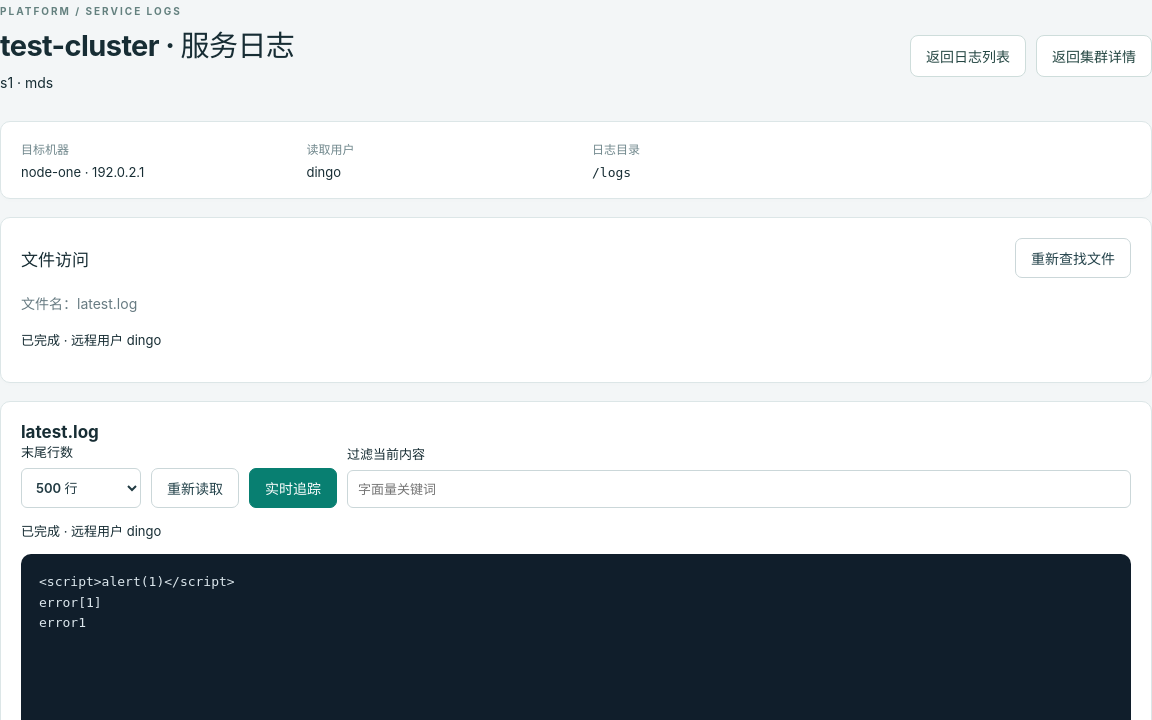
Test case: a file page lists before reading its opaque file id and renders HTML as text
Check: the text named "日志内容" shows "<script>alert(1)</script>", box [39,574,235,630]
In the field labelled "过滤当前内容": coordinates (739, 489) [347,470,1131,508], type "error[1]"
(page scrolled)
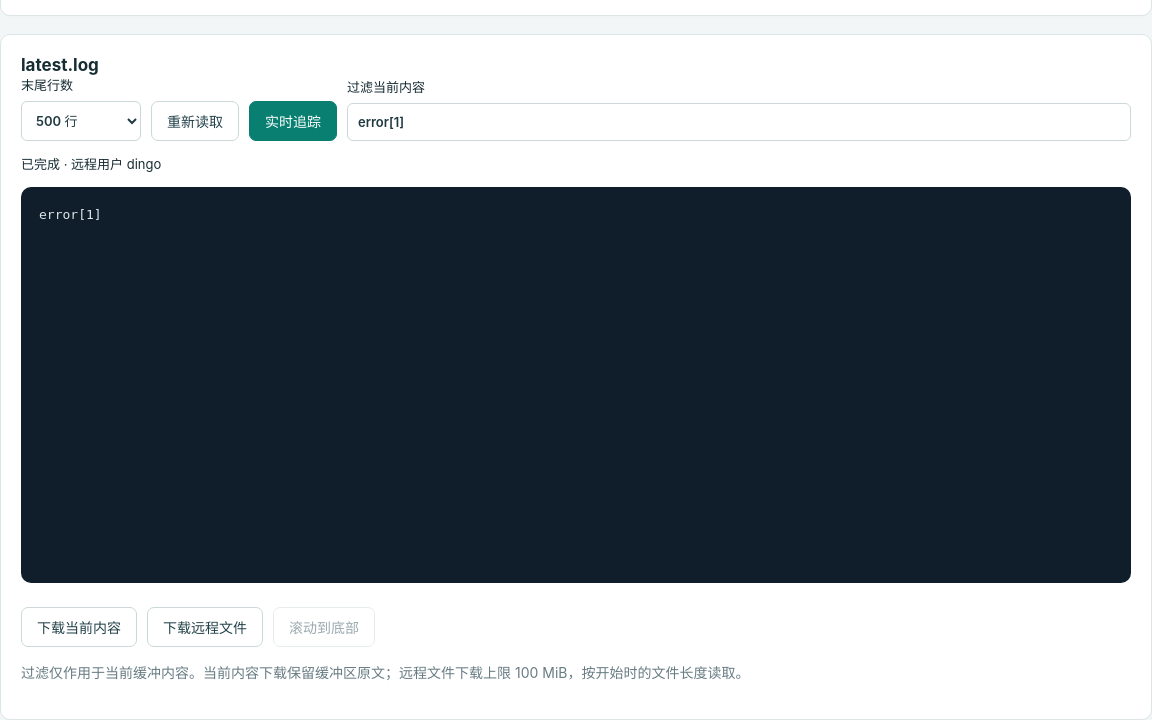
Check: the text named "日志内容" reads "error[1]", box [39,207,102,222]
